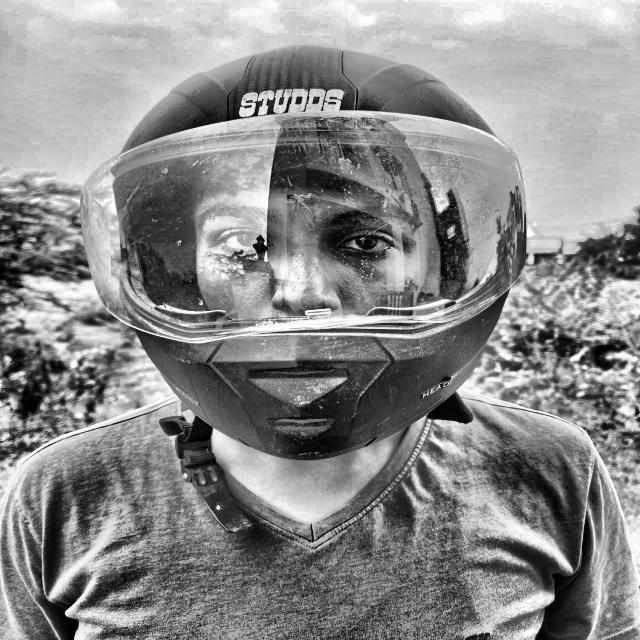Helmet: (75, 45, 536, 469)
